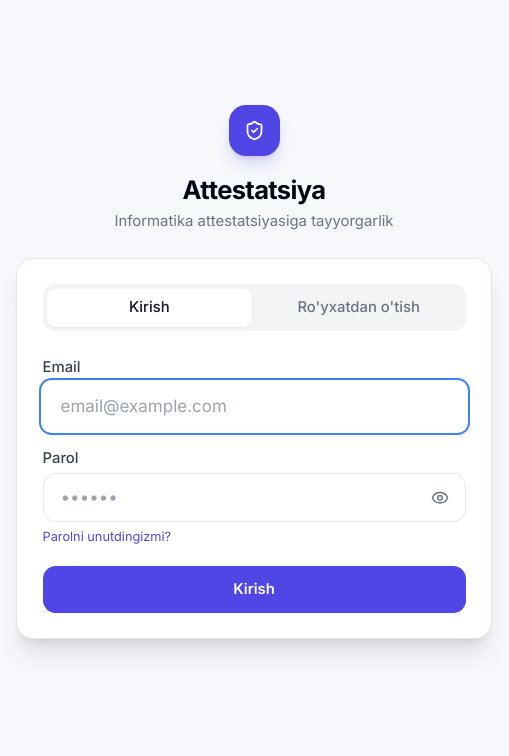
it: Auth sahifasi › signup: qisqa parol validatsiya xatosi beradi
Click the button "Ro'yxatdan o'tish" at (359, 308), box [256, 289, 461, 327]
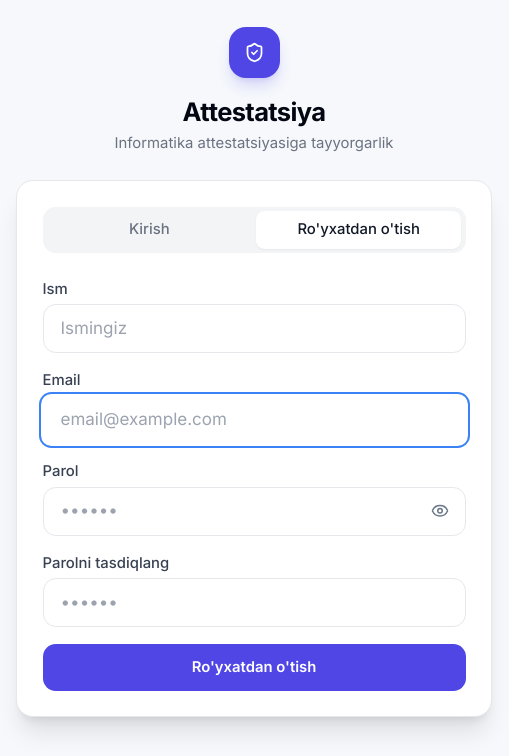
Type "Ali" into the field labelled "Ism" at (254, 329), box [42, 304, 466, 353]
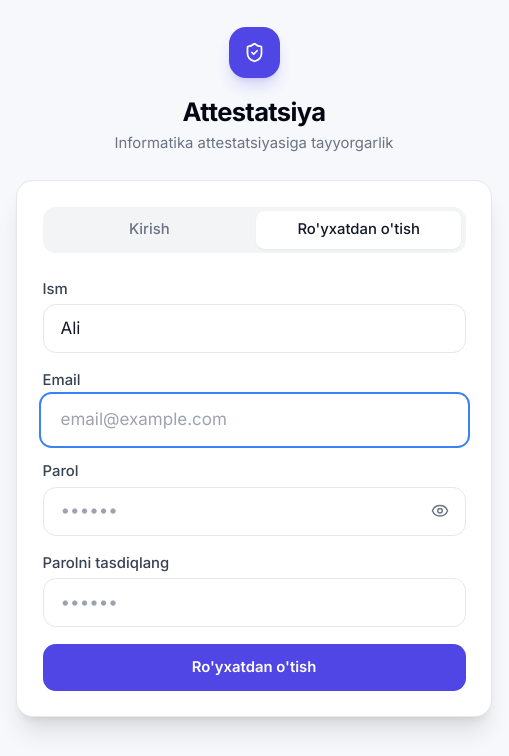
Type "new@test.com" into the field labelled "Email" at (254, 420), box [42, 396, 466, 444]
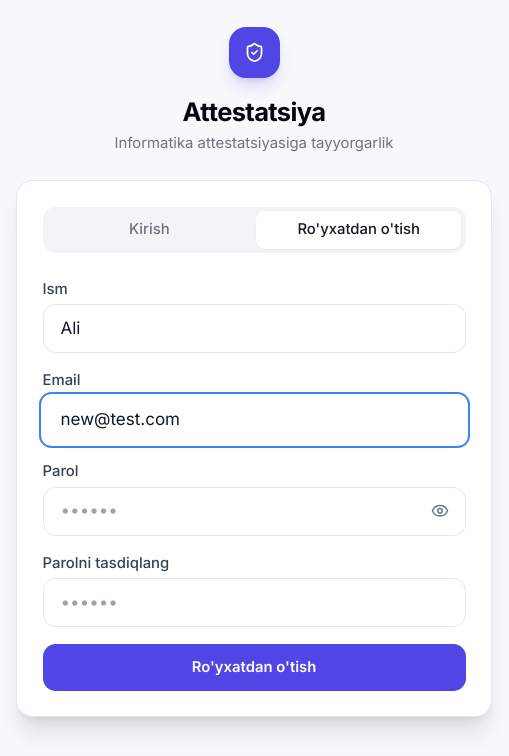
Type "123" into the password field labelled "Parol" at (254, 511), box [42, 487, 466, 536]
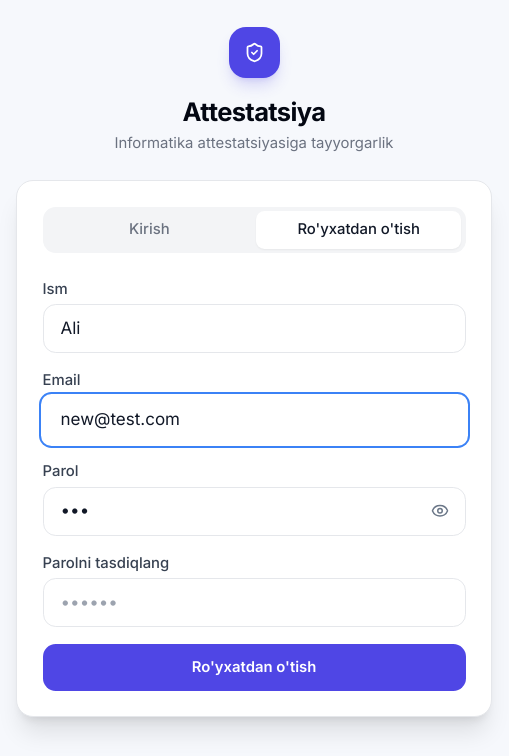
Type "123" into the password field labelled "Parolni tasdiqlang" at (254, 602), box [42, 578, 466, 627]
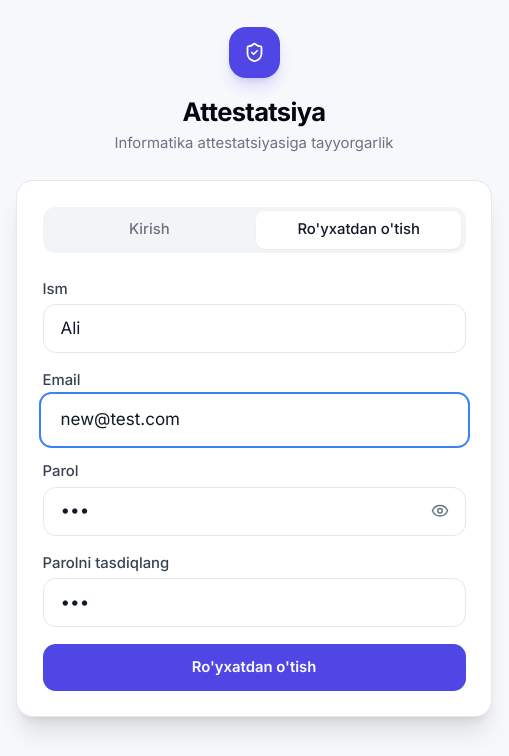
Submit the form labelled "Parolni tasdiqlang", box [42, 279, 466, 691]
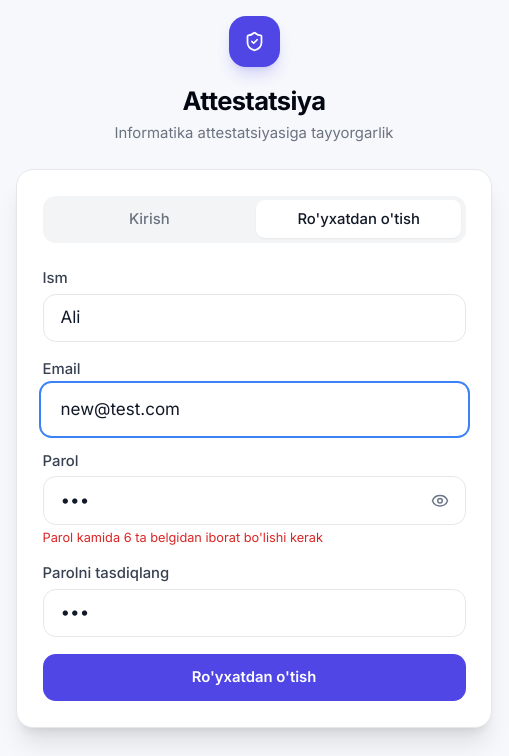
Expected: the text "Parol kamida 6 ta belgidan iborat bo'lishi kerak" is shown, [42, 530, 323, 545]
